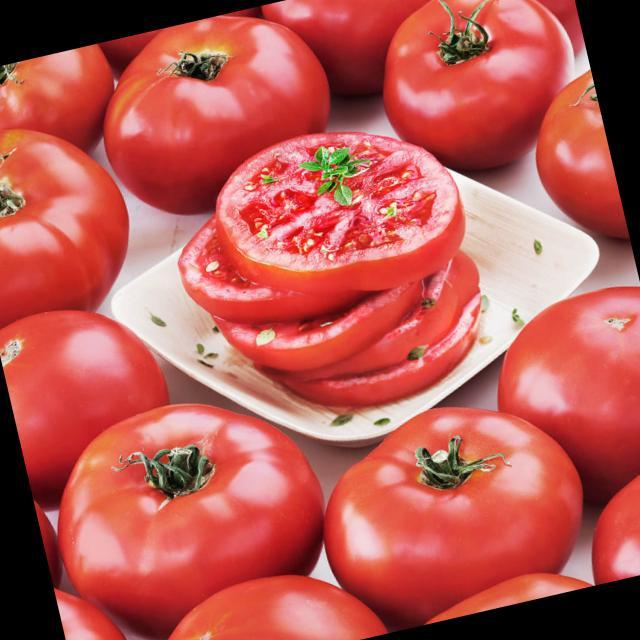TOMATO: (38, 377, 338, 626), (283, 349, 573, 581), (88, 0, 353, 197), (202, 99, 434, 298), (360, 0, 583, 174), (0, 289, 158, 481), (482, 281, 640, 457), (0, 109, 129, 309), (132, 558, 377, 640), (422, 534, 640, 622), (521, 68, 626, 238), (0, 43, 112, 150), (578, 459, 640, 583)
